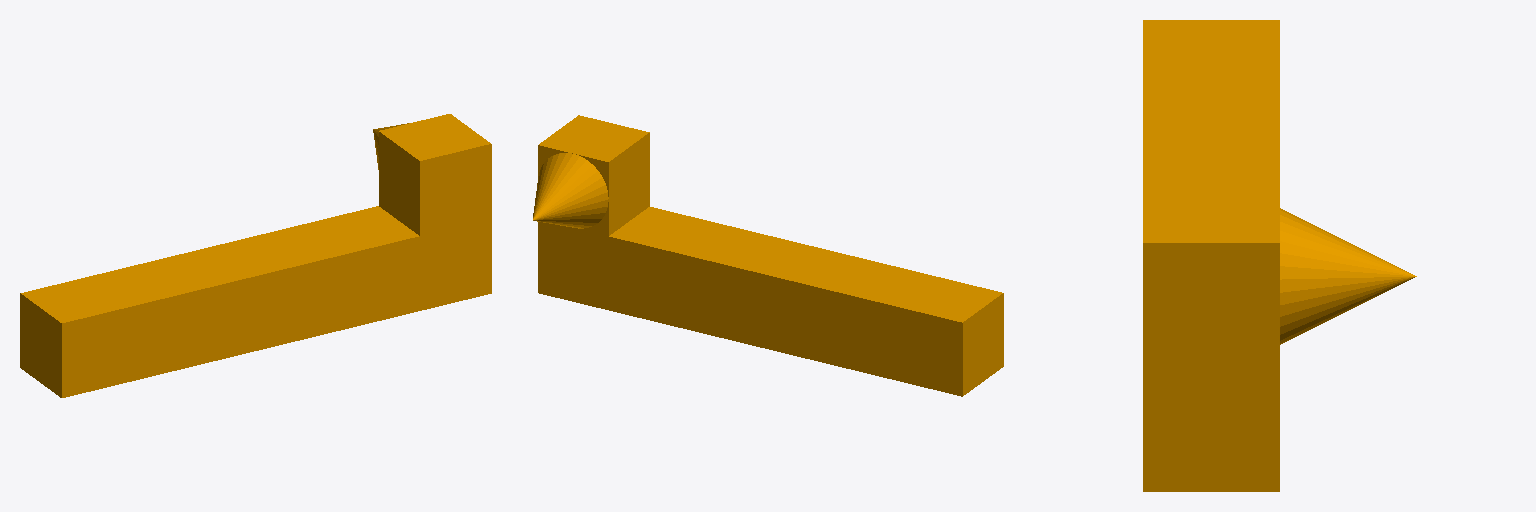
URDF robot description (robot_mesh):
<?xml version="1.0"?>
	<robot name="robot_mesh">
		<link name="base_link">
                  <visual>
                    <origin rpy="0 0 0" xyz="0 0 0"/>
                    <geometry>
                      <mesh filename="package://hpp_tutorial/meshes/strange.stl"/>
                    </geometry>
                  </visual>
                  <collision> 
                    <origin rpy="0 0 0" xyz="0 0 0"/>
                    <geometry>
                      <mesh filename="package://hpp_tutorial/meshes/strange.stl"/>
                    </geometry>
                  </collision> 
		</link>
	</robot>

--- Render facts (derived) ---
Views: 3 orthographic renders of the robot side by side, from view 1: azimuth 30°, elevation 25°; view 2: azimuth 150°, elevation 25°; view 3: azimuth 270°, elevation 25°.
Robot: robot_mesh — 1 links, 0 joints (none); root link base_link; default pose: every joint at zero.
Visible links, largest first — view 1: base_link; view 2: base_link; view 3: base_link.
Boxes of the visible links, x1,y1,x2,y2 form: base_link: (20, 114, 491, 397); base_link: (533, 115, 1003, 396); base_link: (1143, 20, 1416, 491).
Bounding box of the posed robot: 6 × 2 × 2 m (x, y, z).
1 mesh visuals loaded from 1 distinct referenced files (1 binary STL).
